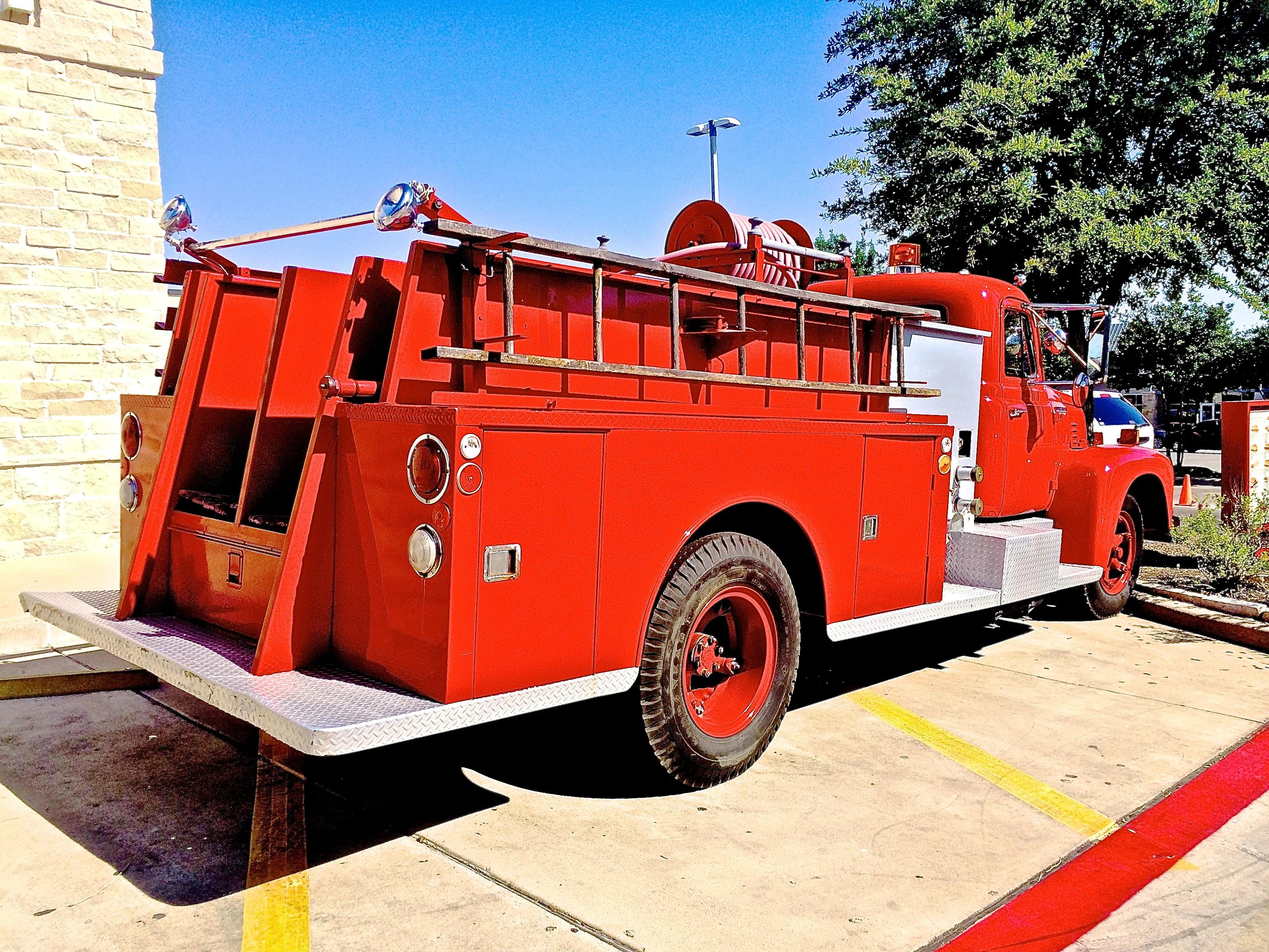Fire-engine: (20, 180, 1180, 792)
